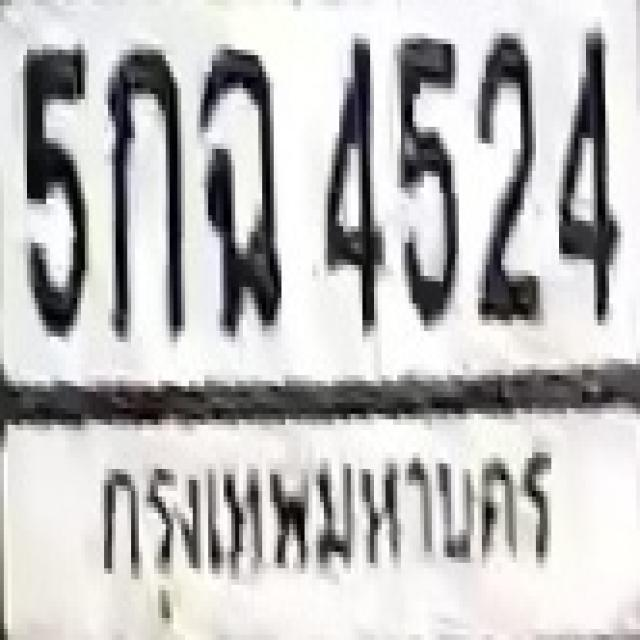2: (474, 39, 540, 320)
4: (555, 22, 617, 320), (320, 33, 382, 326)
5: (19, 44, 85, 337), (395, 33, 457, 326)
A01: (106, 44, 183, 337)
A09: (198, 44, 280, 331)
BKK: (87, 424, 552, 640)
